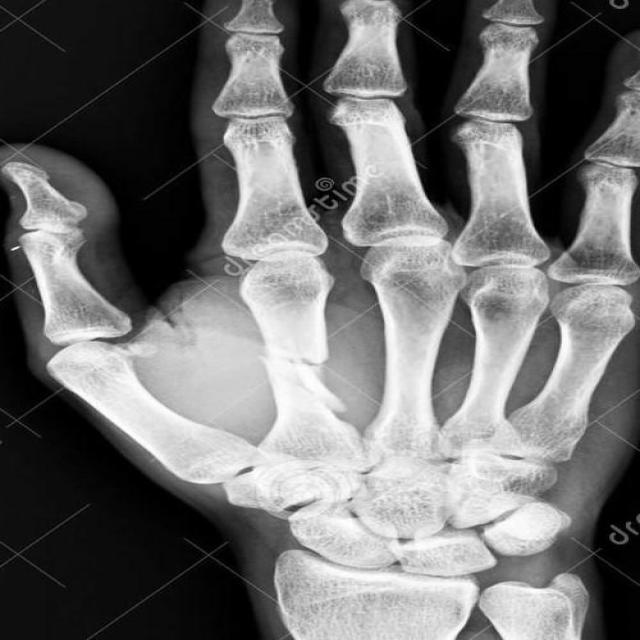fracture: (261, 351, 333, 372)
